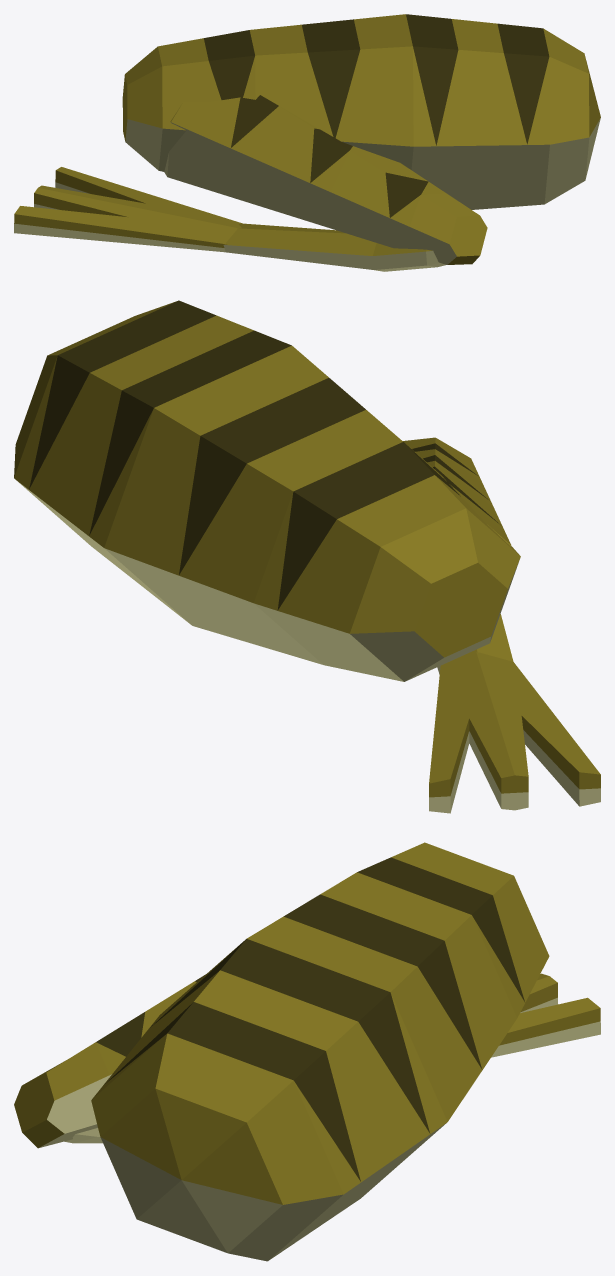
Rendered from tagumine jalg vasak.fbx.
3 views of the same model, one above another, from view 1: azimuth 30°, elevation 25°; view 2: azimuth 150°, elevation 25°; view 3: azimuth 270°, elevation 25° (orthographic). The views are drawn at different scales.
Visible parts, largest first — view 1: taguminejalg vasak; view 2: taguminejalg vasak; view 3: taguminejalg vasak.
Part boxes in pixels (x1=…): taguminejalg vasak: x1=14, y1=14, x2=600, y2=271; taguminejalg vasak: x1=14, y1=300, x2=600, y2=813; taguminejalg vasak: x1=14, y1=842, x2=600, y2=1261.
Size of the model in its own units: 30.9 by 11.04 by 23.2.
